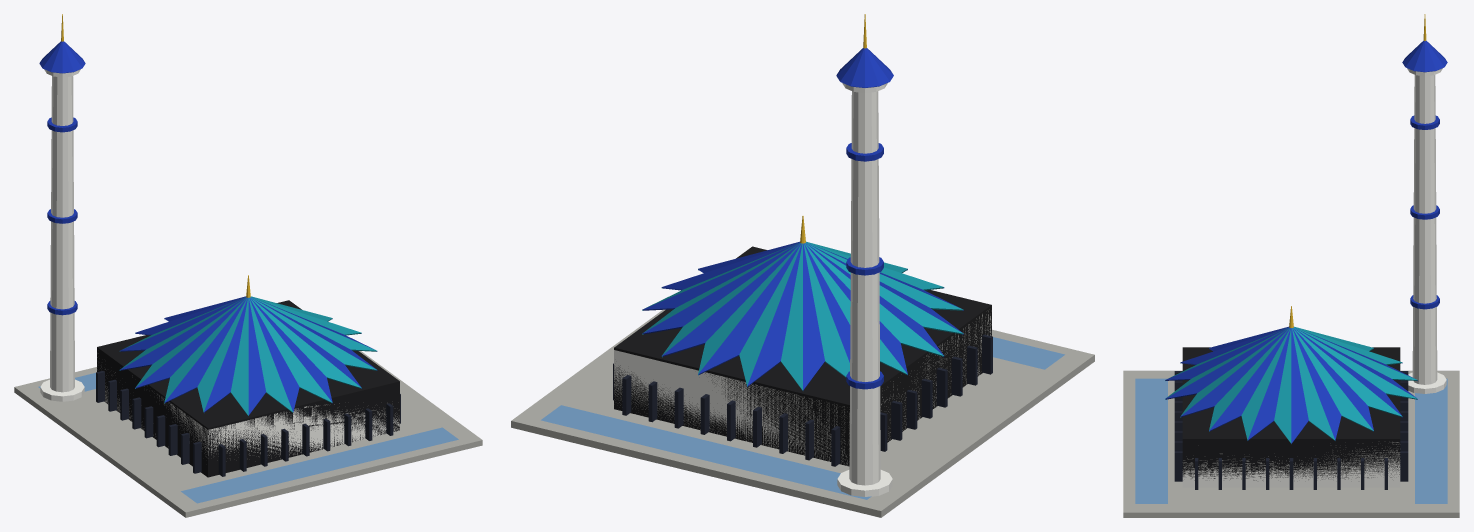
File: env_lm_masjid_negara.fbx
3 views of the same model, side by side, from view 1: azimuth 30°, elevation 25°; view 2: azimuth 150°, elevation 25°; view 3: azimuth 270°, elevation 25° (orthographic). The views are drawn at different scales.
Parts seen in each view (by area): view 1: env_lm_masjid_negara_geo_LOD0, COL_env_lm_masjid_negara; view 2: env_lm_masjid_negara_geo_LOD0, COL_env_lm_masjid_negara; view 3: env_lm_masjid_negara_geo_LOD0, COL_env_lm_masjid_negara.
Boxes of the visible parts, box(x1,y1,x2,y2) form: env_lm_masjid_negara_geo_LOD0: box(14, 14, 482, 517); COL_env_lm_masjid_negara: box(97, 300, 399, 477); env_lm_masjid_negara_geo_LOD0: box(511, 14, 1094, 517); COL_env_lm_masjid_negara: box(614, 246, 991, 466); env_lm_masjid_negara_geo_LOD0: box(1123, 14, 1459, 517); COL_env_lm_masjid_negara: box(1182, 347, 1400, 480).
Size of what is drawn, in the model's own units: 34 by 42 by 34.
